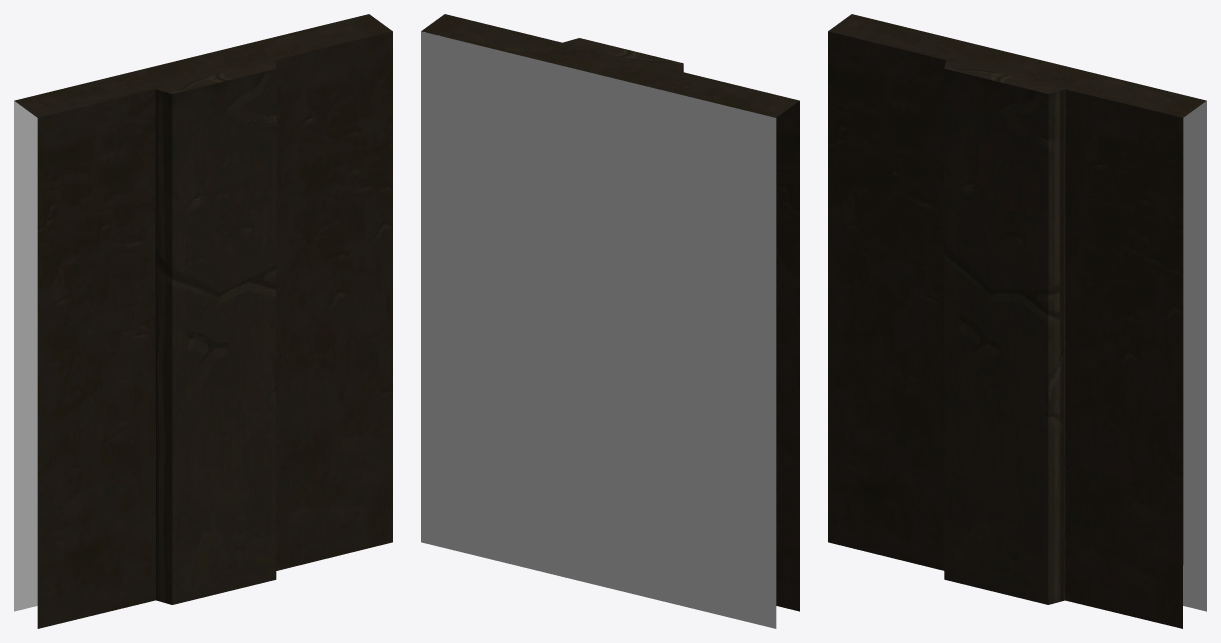
The model's file is fortress_wall_straight_02.fbx.
3 renders of one model, left to right at view 1: azimuth 30°, elevation 25°; view 2: azimuth 150°, elevation 25°; view 3: azimuth 330°, elevation 25°, orthographic.
Visible parts, largest first — view 1: fortress_wall_straight_02-0; view 2: fortress_wall_straight_02-0; view 3: fortress_wall_straight_02-0.
Part boxes in pixels (box(x1,y1,x2,y2)): fortress_wall_straight_02-0: box(14, 14, 392, 628); fortress_wall_straight_02-0: box(421, 14, 799, 628); fortress_wall_straight_02-0: box(828, 14, 1206, 628).
Bounding box in the file's own units: 4 × 5.5 × 0.6409.
